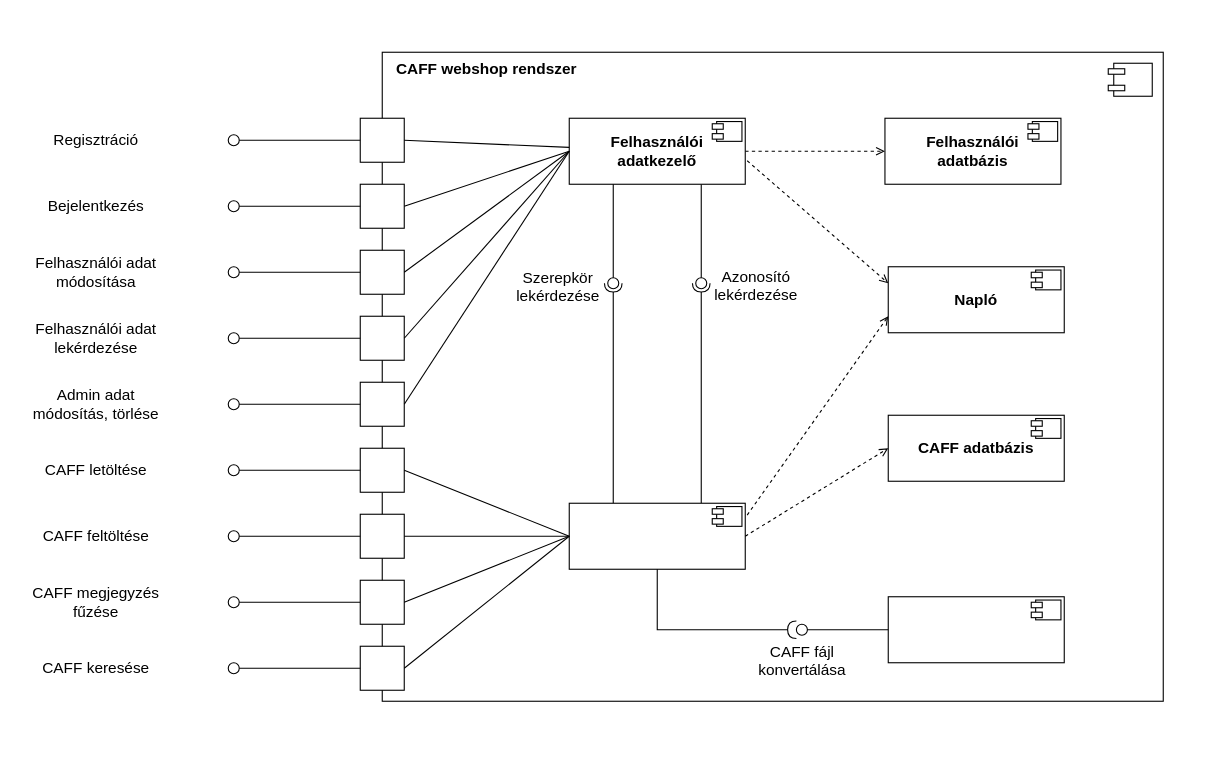
Some shapes in this 1214 by 763 pixel diagram are drawn without their labels. Each missing label, with the box of its shape:
CAFF adatkezelő: (568, 502, 745, 569)
CAFF natív parser: (887, 596, 1064, 663)
